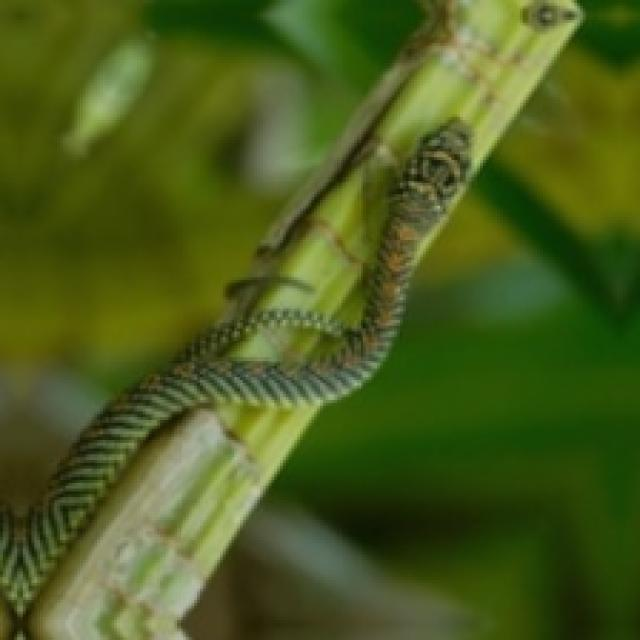paradise tree snake: (0, 120, 466, 616)
